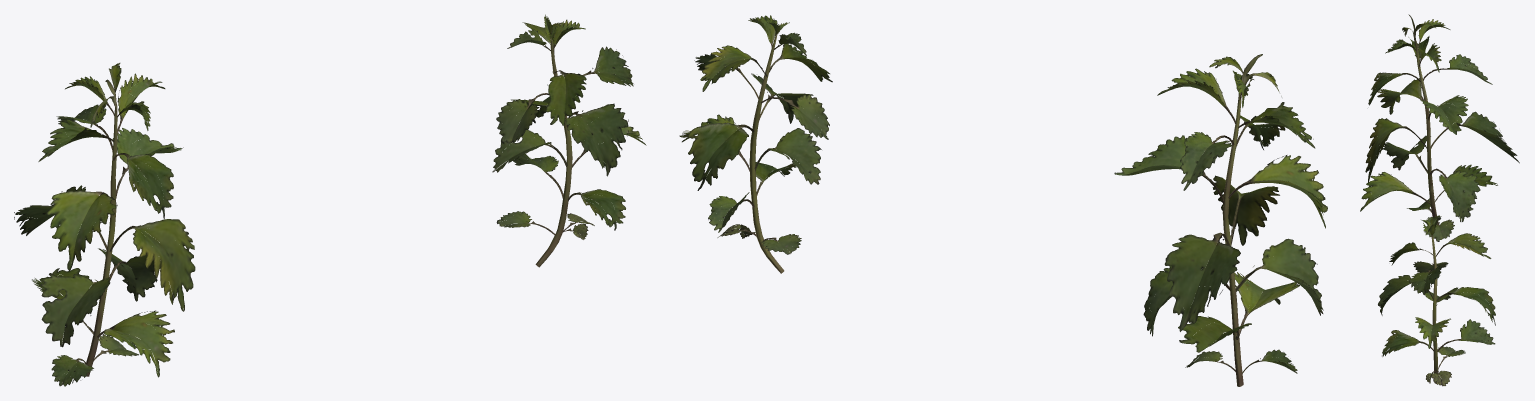
File: nettle_plant.glb
The picture shows the model from 3 angles, left to right: view 1: azimuth 30°, elevation 25°; view 2: azimuth 150°, elevation 25°; view 3: azimuth 270°, elevation 25°; orthographic projection. The views are drawn at different scales.
Visible parts, largest first — view 1: nettle_plant; view 2: nettle_plant; view 3: nettle_plant.
Boxes of the visible parts, x1,y1,x2,y2 form: nettle_plant: (14,14,646,386); nettle_plant: (679,15,1327,386); nettle_plant: (1360,14,1519,386).
Size of what is drawn, in the model's own units: 1.87 by 0.9 by 0.6092.
Materials: 1 (1 with a texture image).
